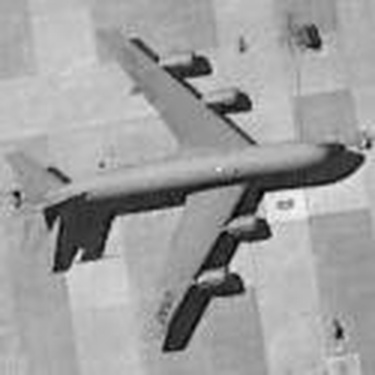airplane: (2, 19, 355, 356)
